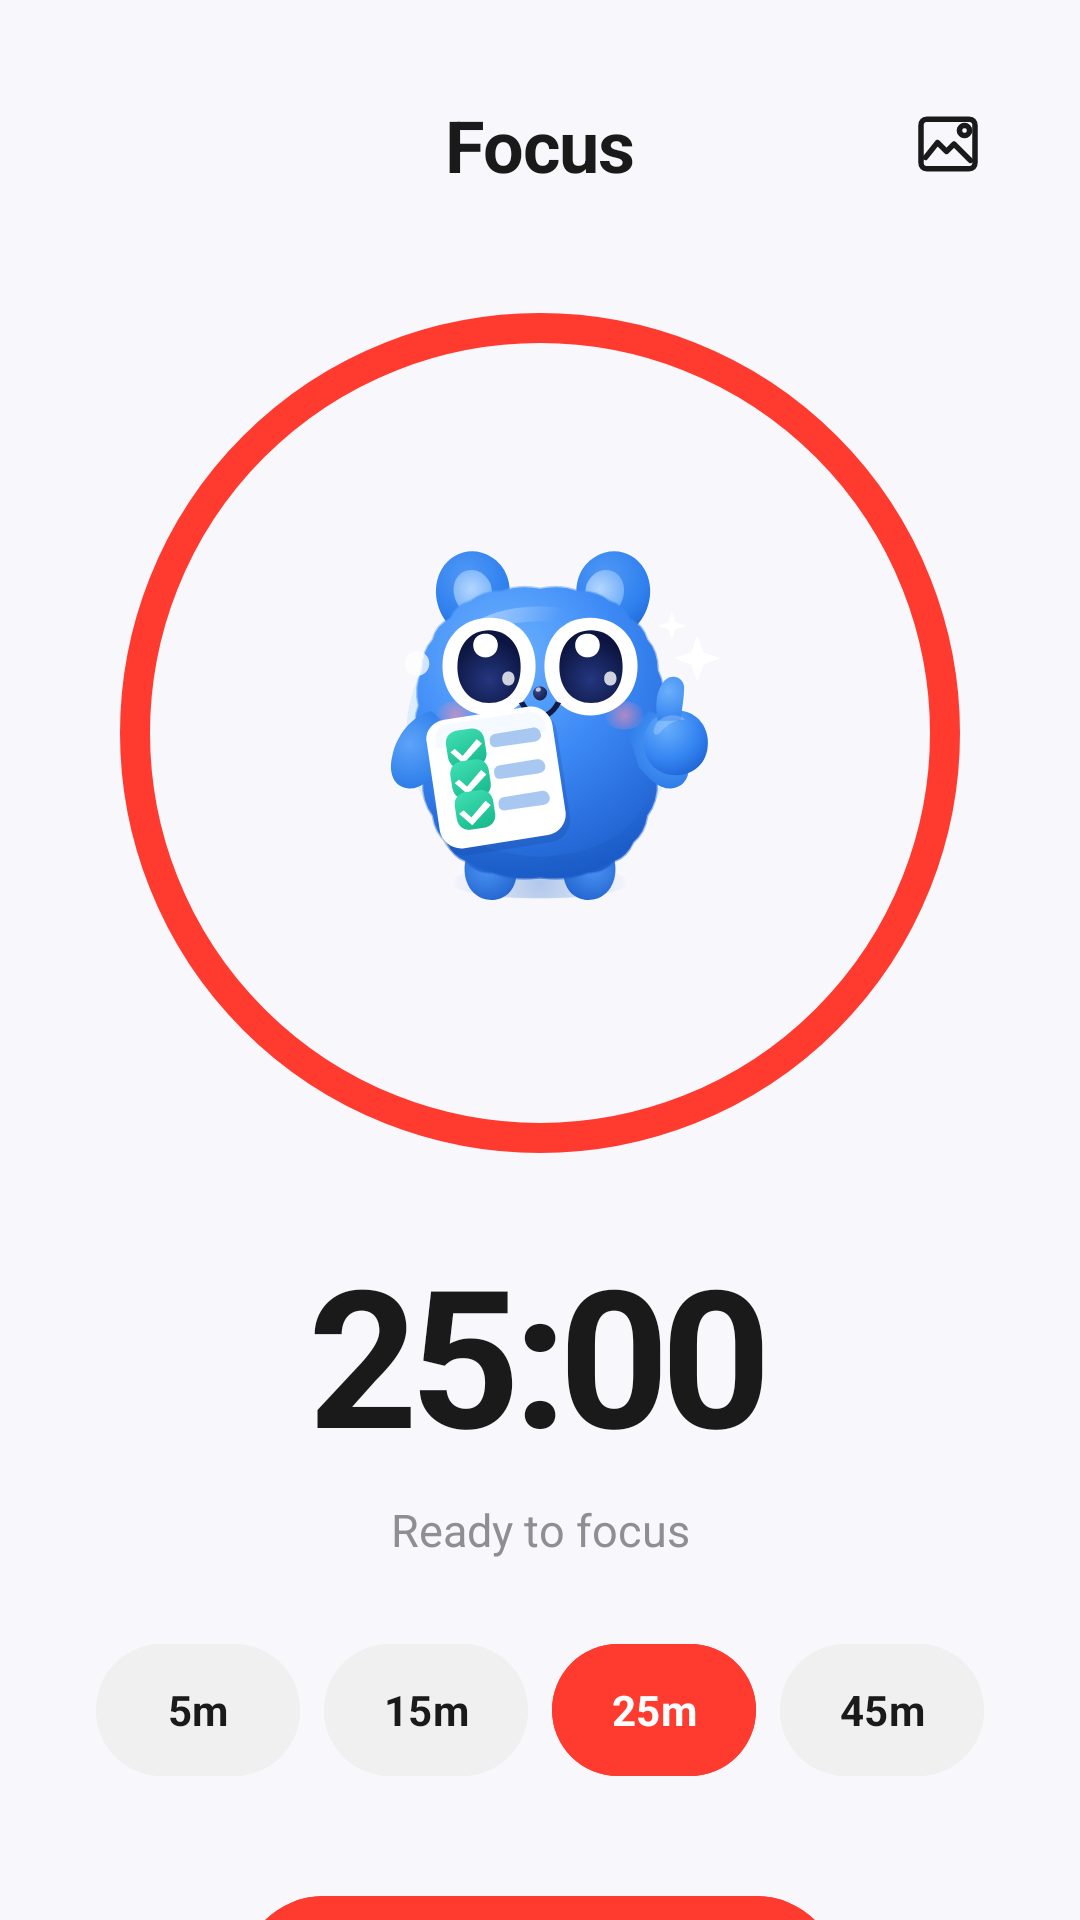

Where to tap for icons on this 1080 × 1920 app screen, as (x=x, y=y):
Focus Mascot: (x=549, y=725)
